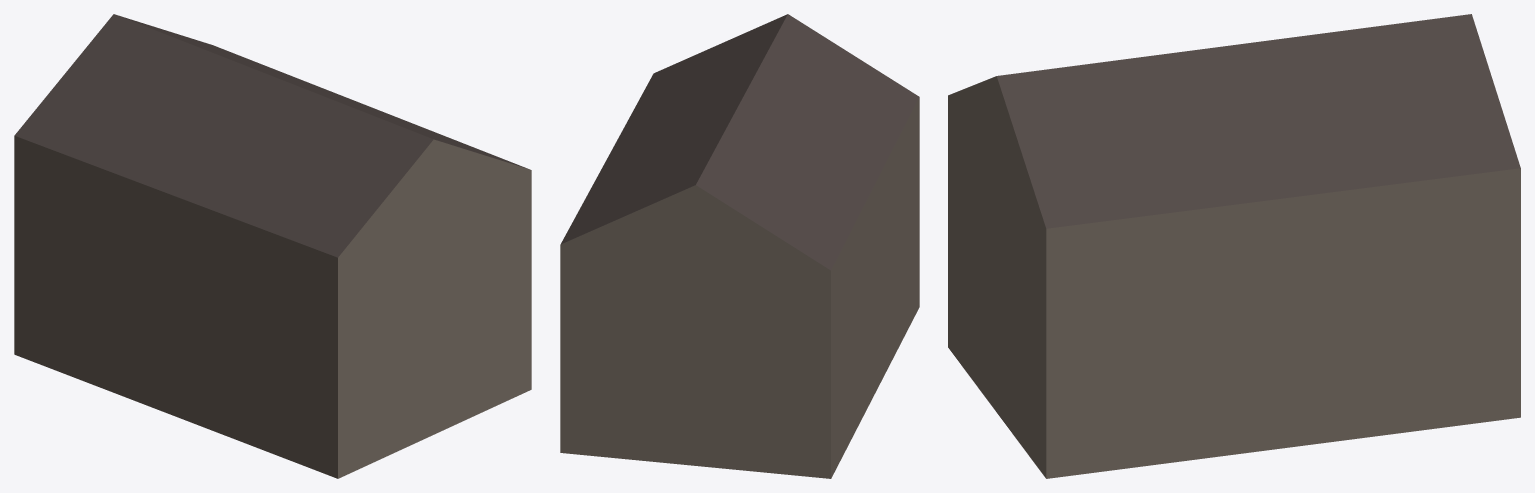
3 views of the same model, side by side, from view 1: azimuth 30°, elevation 25°; view 2: azimuth 150°, elevation 25°; view 3: azimuth 270°, elevation 25° (orthographic). The views are drawn at different scales.
Parts seen in each view (by area): view 1: HP-w1198840831; view 2: HP-w1198840831; view 3: HP-w1198840831.
Part boxes in pixels (x1,y1,x2,y2): HP-w1198840831: (14, 14, 531, 478); HP-w1198840831: (560, 14, 919, 478); HP-w1198840831: (948, 14, 1520, 478).
Size of the model in its own units: 10.09 by 8.09 by 12.48.
